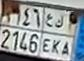1: (13, 9, 20, 51)
2: (2, 9, 12, 51)
4: (20, 8, 29, 51)
6: (29, 7, 40, 53)
A: (63, 16, 70, 56)
E: (42, 12, 52, 53)
K: (53, 16, 63, 53)
